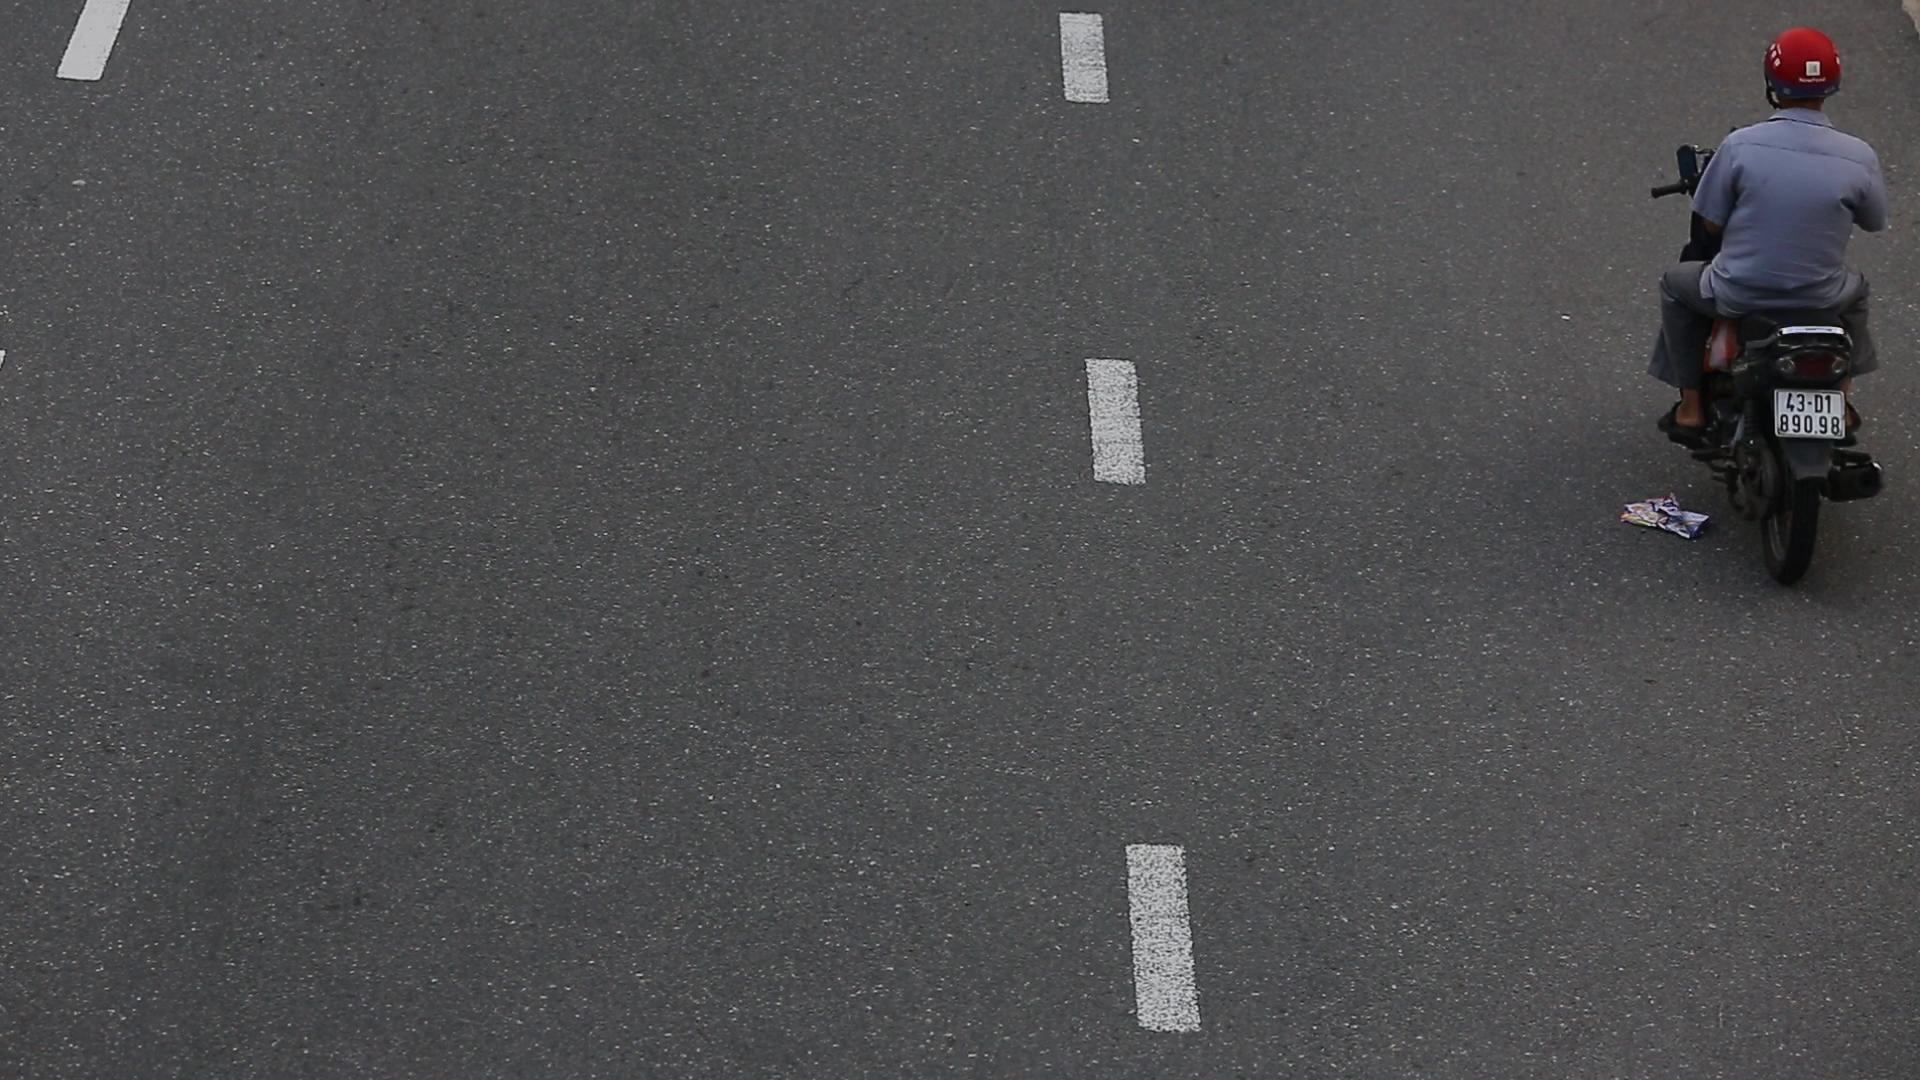motobike: (1648, 5, 1900, 607)
